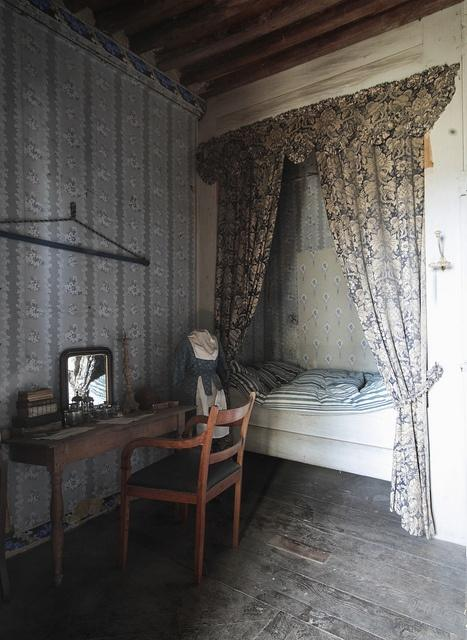Kursi: (116, 390, 256, 586)
